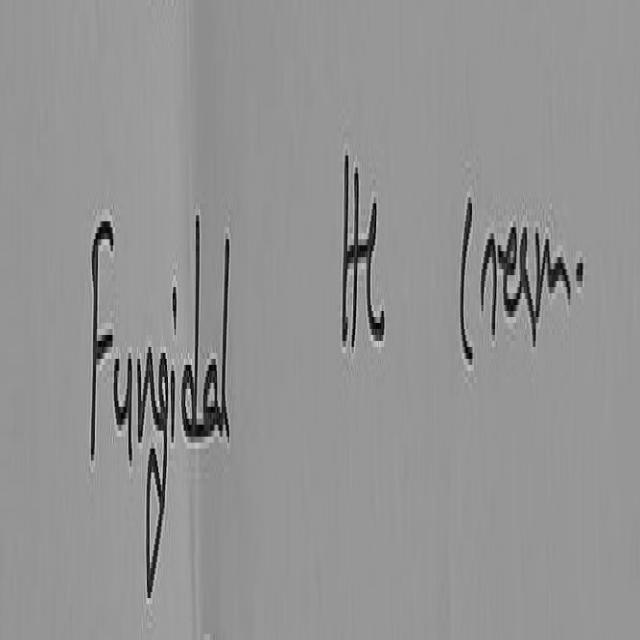F: (90, 215, 113, 452)
H: (343, 158, 359, 349)
a: (521, 227, 537, 338), (203, 353, 220, 441)
c: (367, 197, 385, 335), (461, 191, 474, 356)
d: (181, 209, 201, 434)
e: (504, 221, 519, 328)
g: (146, 347, 168, 601)
i: (171, 365, 175, 434), (172, 281, 177, 326)
l: (221, 233, 229, 434)
m: (537, 227, 572, 308)
n: (136, 341, 159, 441)
r: (482, 227, 498, 332)
u: (113, 349, 133, 469)
